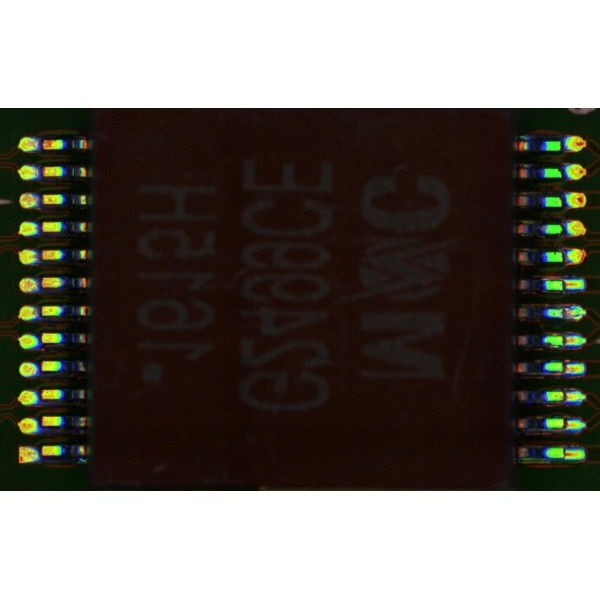Bad_podu: (554, 280, 578, 289), (557, 364, 577, 372), (555, 421, 576, 428), (557, 338, 576, 345), (556, 452, 576, 457), (557, 310, 573, 316)
